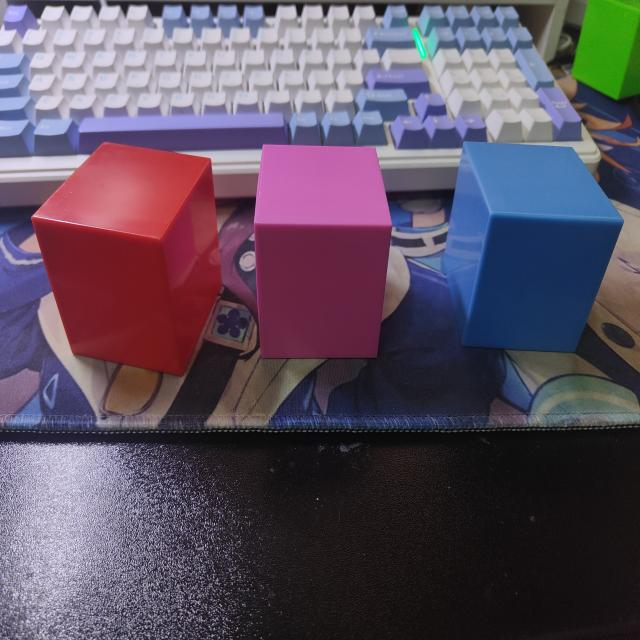blue: (437, 147, 624, 358)
pink: (254, 146, 393, 363)
red: (31, 143, 222, 386)
